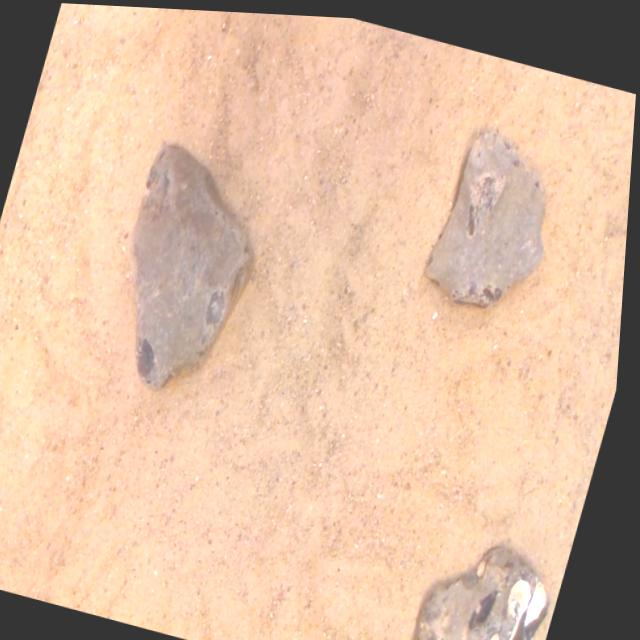rock: (135, 145, 255, 385), (428, 126, 546, 303), (421, 542, 555, 640)
